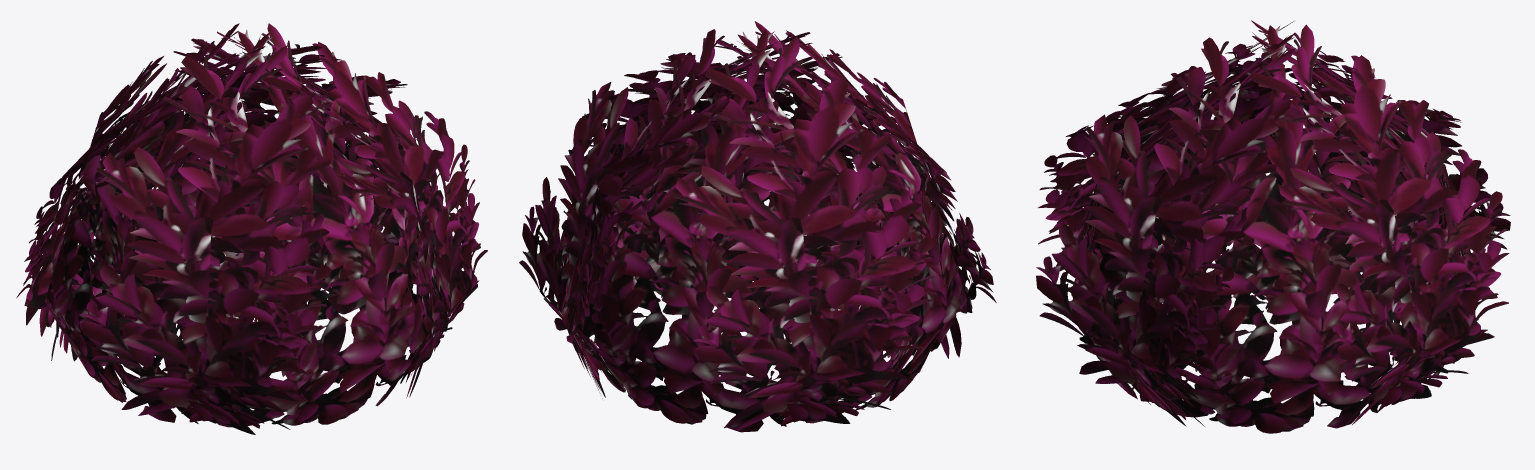
The model's file is Arbusto_BiriRoxo.fbx.
3 views of the same model, side by side, from view 1: azimuth 30°, elevation 25°; view 2: azimuth 150°, elevation 25°; view 3: azimuth 270°, elevation 25° (orthographic).
Visible parts, largest first — view 1: Plane.062; view 2: Plane.062; view 3: Plane.062.
Part boxes in pixels (box(x1,y1,x2,y2)): Plane.062: box(16, 23, 487, 434); Plane.062: box(519, 21, 996, 432); Plane.062: box(1036, 20, 1510, 433).
Size of the model in its own units: 175 by 137 by 175.
Materials: 1 (1 with a texture image).
